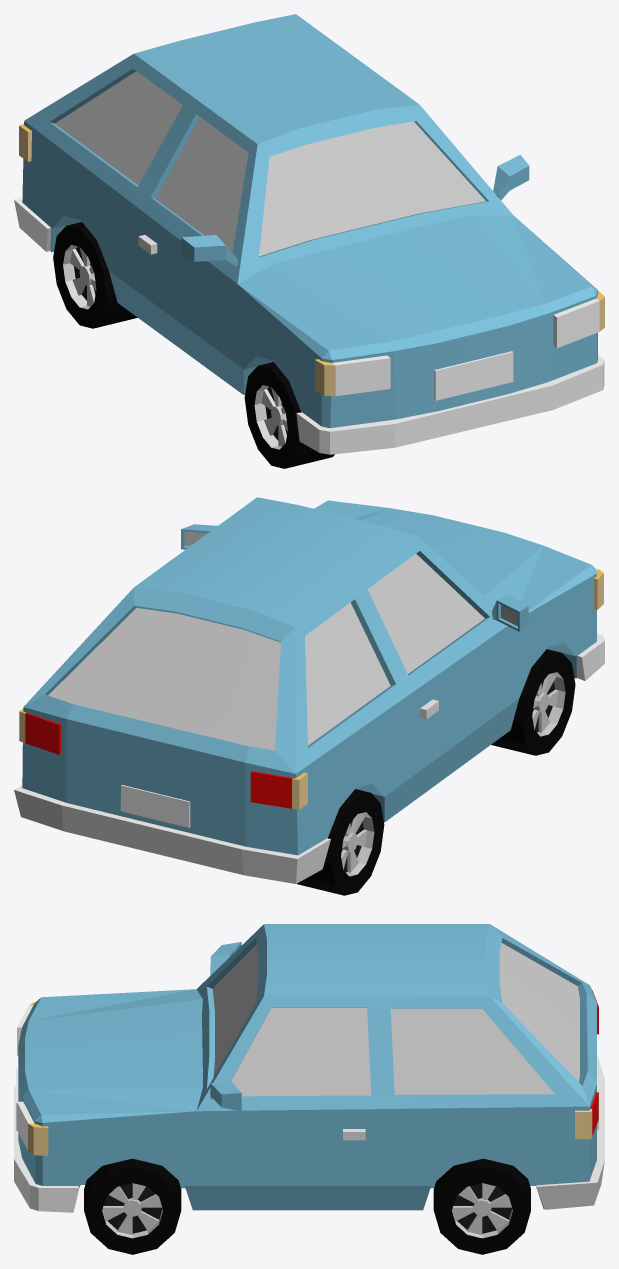
The model's file is Car-09-D.fbx.
The picture shows the model from 3 angles, top to bottom: view 1: azimuth 30°, elevation 25°; view 2: azimuth 150°, elevation 25°; view 3: azimuth 270°, elevation 25°; orthographic projection. The views are drawn at different scales.
Visible parts, largest first — view 1: Car-09, BR, FR, Head-Light, Light-Right; view 2: Car-09, FR, BR, Break-Light, Light-Right; view 3: Car-09, FL, BL, Light-Left, Head-Light.
Part boxes in pixels (x1=…): Car-09: x1=14, y1=14, x2=604, y2=454; BR: x1=53, y1=222, x2=137, y2=328; FR: x1=244, y1=362, x2=334, y2=468; Head-Light: x1=333, y1=298, x2=599, y2=395; Light-Right: x1=19, y1=125, x2=335, y2=396; Car-09: x1=14, y1=497, x2=604, y2=883; FR: x1=491, y1=649, x2=575, y2=755; BR: x1=297, y1=789, x2=384, y2=895; Break-Light: x1=25, y1=713, x2=293, y2=808; Light-Right: x1=292, y1=570, x2=603, y2=809; Car-09: x1=14, y1=924, x2=604, y2=1212; FL: x1=84, y1=1158, x2=181, y2=1254; BL: x1=433, y1=1158, x2=530, y2=1254; Light-Left: x1=28, y1=1109, x2=592, y2=1155; Head-Light: x1=17, y1=1005, x2=34, y2=1150.
Size of the model in its own units: 2.45 by 1.79 by 4.05.
